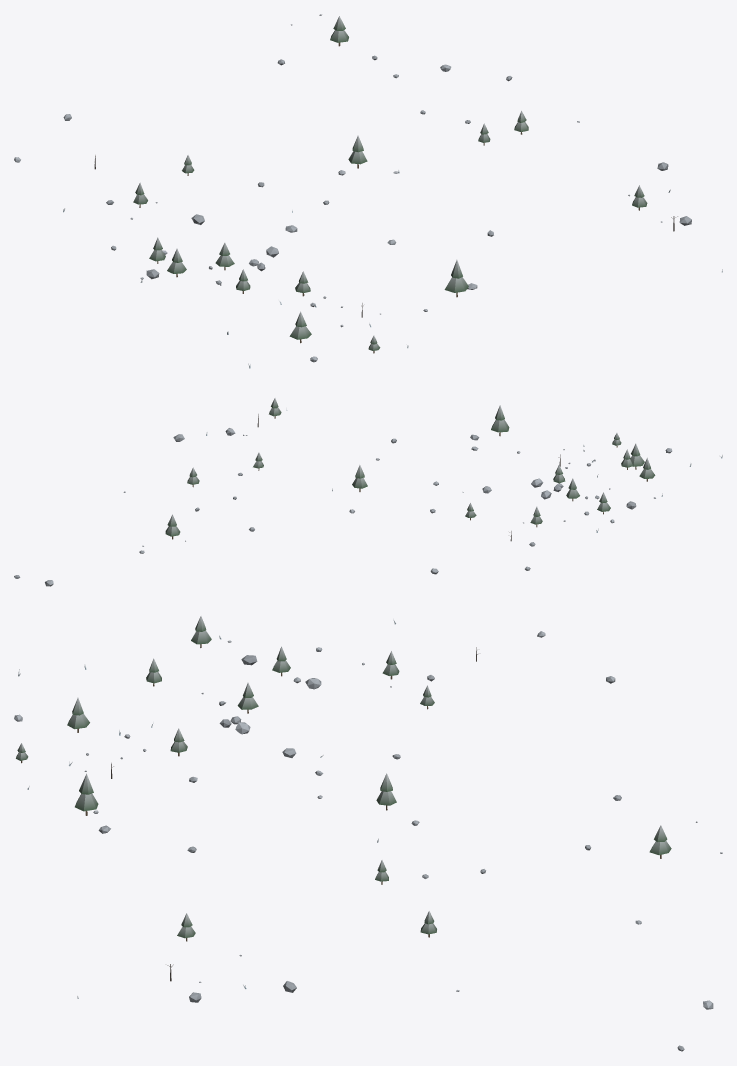
Rendered from frost_land_scatter_c16_10_lod1.glb.
3 renders of one model, top to bottom at view 1: azimuth 30°, elevation 25°; view 2: azimuth 150°, elevation 25°; view 3: azimuth 270°, elevation 25°, orthographic. The views are drawn at different scales.
Parts seen in each view (by area): view 1: frost_land_scatter_c16_10_lod1; view 2: frost_land_scatter_c16_10_lod1; view 3: frost_land_scatter_c16_10_lod1.
Boxes of the visible parts, <box> form: frost_land_scatter_c16_10_lod1: <box>14,14,722,368</box>; frost_land_scatter_c16_10_lod1: <box>14,398,722,586</box>; frost_land_scatter_c16_10_lod1: <box>14,616,722,1051</box>.
Size of the model in its own units: 253 by 51.29 by 240.
